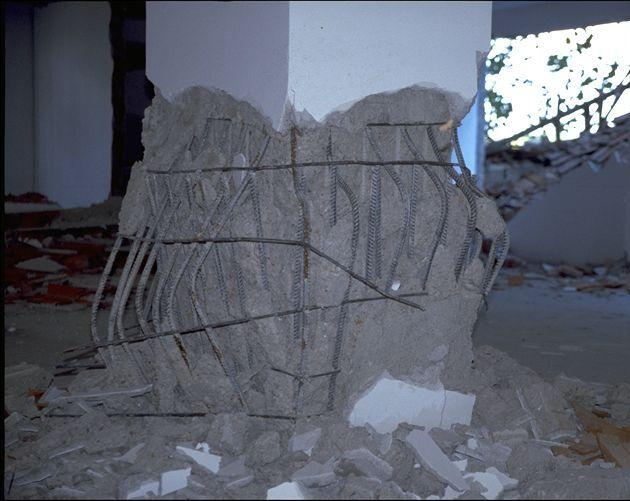spalling: (92, 82, 511, 424)
